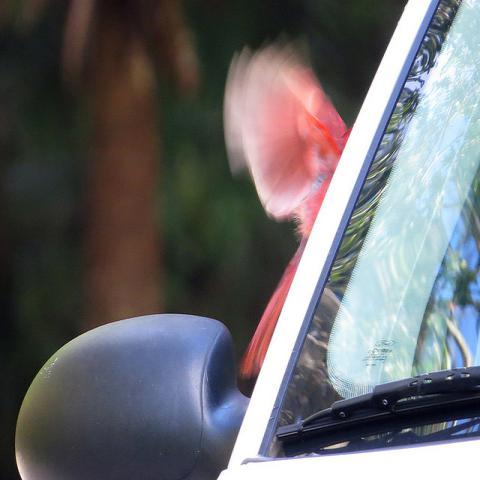car: (18, 0, 479, 479)
